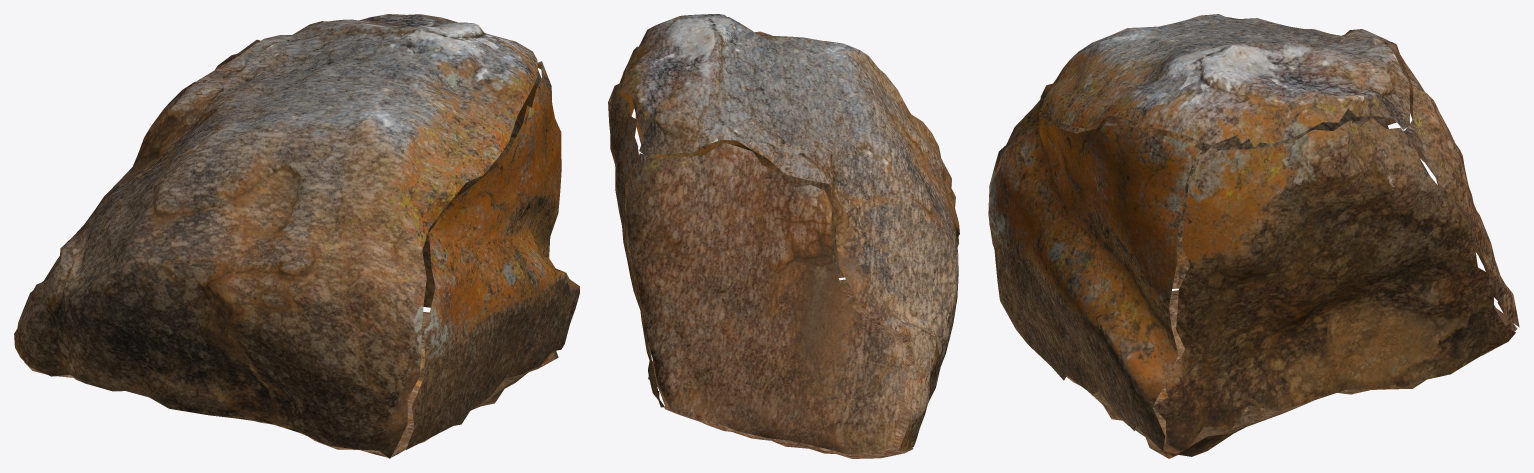
The model's file is rock_b.glb.
3 renders of one model, left to right at view 1: azimuth 30°, elevation 25°; view 2: azimuth 150°, elevation 25°; view 3: azimuth 270°, elevation 25°, orthographic. The views are drawn at different scales.
Parts seen in each view (by area): view 1: rock_b; view 2: rock_b; view 3: rock_b.
Boxes of the visible parts, x1=… form: rock_b: x1=14, y1=14, x2=579, y2=458; rock_b: x1=608, y1=14, x2=959, y2=458; rock_b: x1=988, y1=14, x2=1519, y2=458.
Bounding box in the file's own units: 2.51 × 1.89 × 2.48.
1 material, 1 textured.
